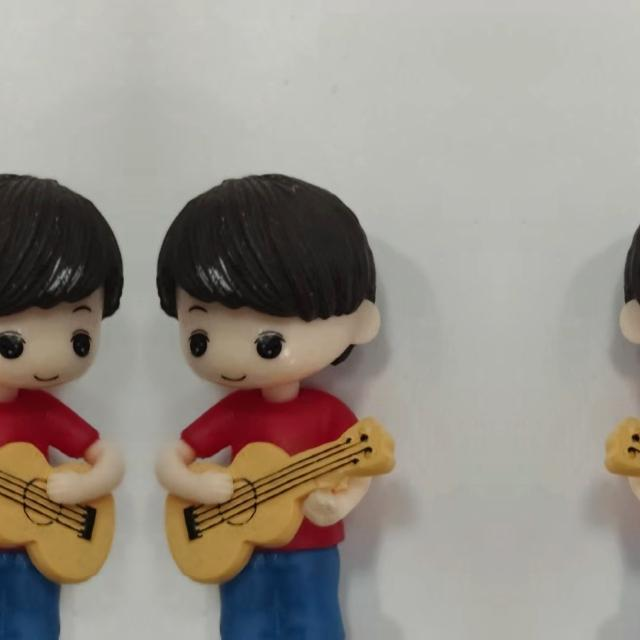man cloth: (180, 388, 364, 552), (0, 387, 99, 552), (636, 387, 640, 552)
man head: (149, 174, 387, 406), (0, 173, 131, 406), (613, 173, 640, 406)
trousers: (199, 551, 357, 635), (0, 551, 81, 635)
